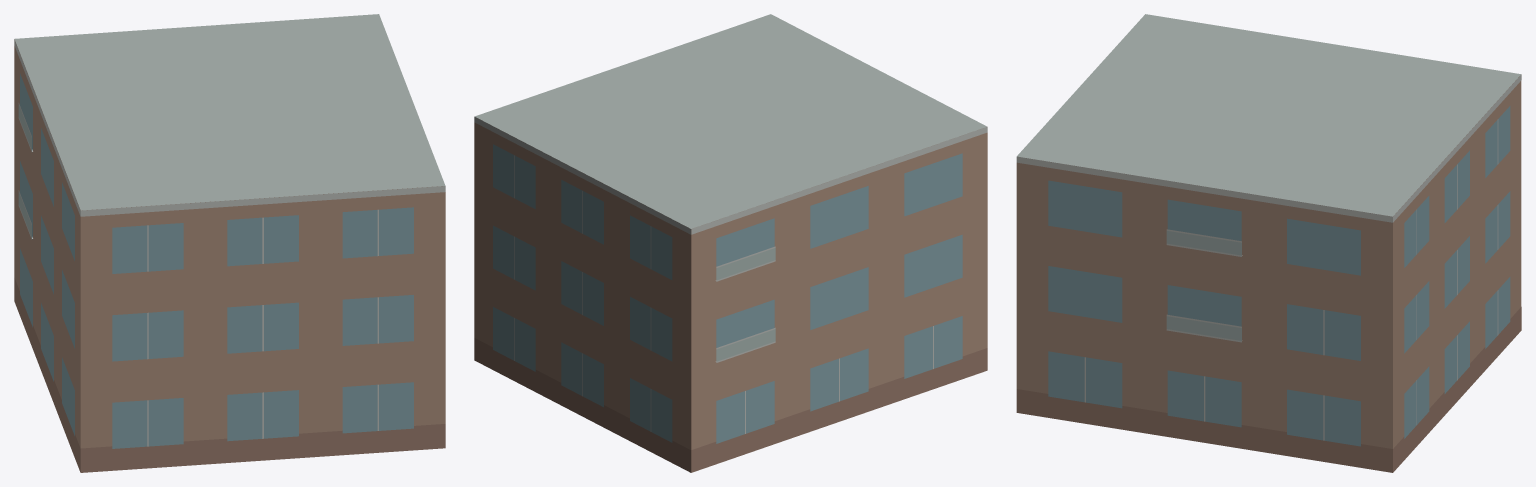
The model's file is survey-upis-32883395.glb.
The picture shows the model from 3 angles, left to right: view 1: azimuth 30°, elevation 25°; view 2: azimuth 150°, elevation 25°; view 3: azimuth 270°, elevation 25°; orthographic projection. The views are drawn at different scales.
Parts seen in each view (by area): view 1: survey-upis-32883395.tmp; view 2: survey-upis-32883395.tmp; view 3: survey-upis-32883395.tmp.
Boxes of the visible parts, x1=… form: survey-upis-32883395.tmp: x1=14, y1=14, x2=445, y2=472; survey-upis-32883395.tmp: x1=474, y1=14, x2=987, y2=472; survey-upis-32883395.tmp: x1=1016, y1=14, x2=1521, y2=472.
Bounding box in the file's own units: 17.31 × 10.2 × 18.22.
